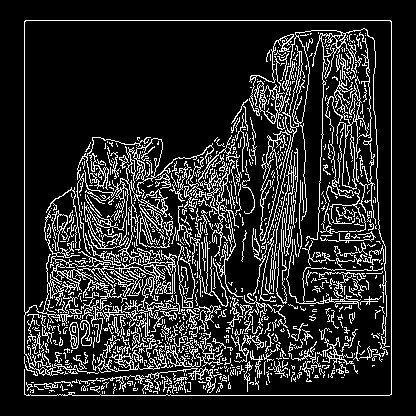buddha-sitting: (44, 138, 181, 314)
